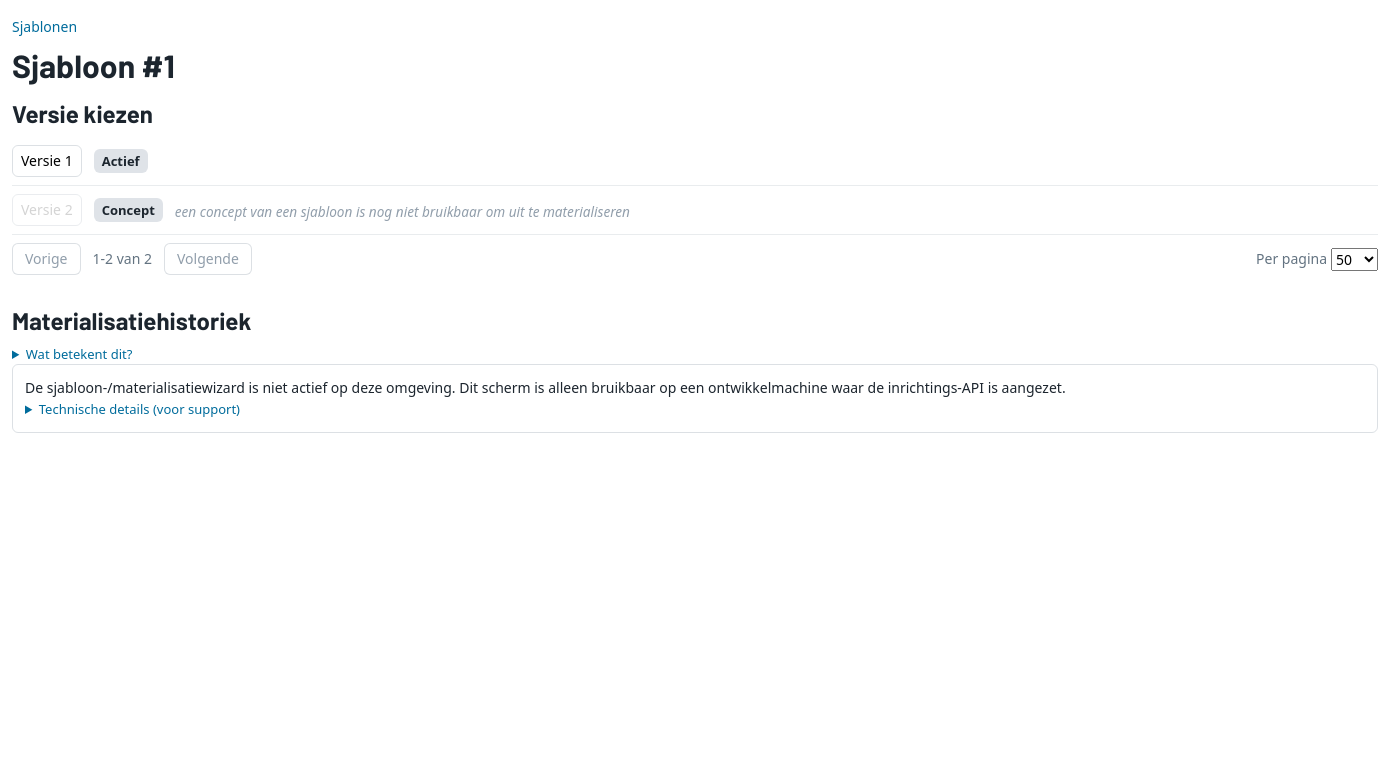
TemplateListPage / TemplateDetailPage (S1-F2) › S1-F2.5: flag-uit-melding op de bookmarkset i.p.v. de generieke foutmelding
Click the button "Versie 1" at coordinates (47, 161), box top-left (12, 145), bottom-right (82, 177)
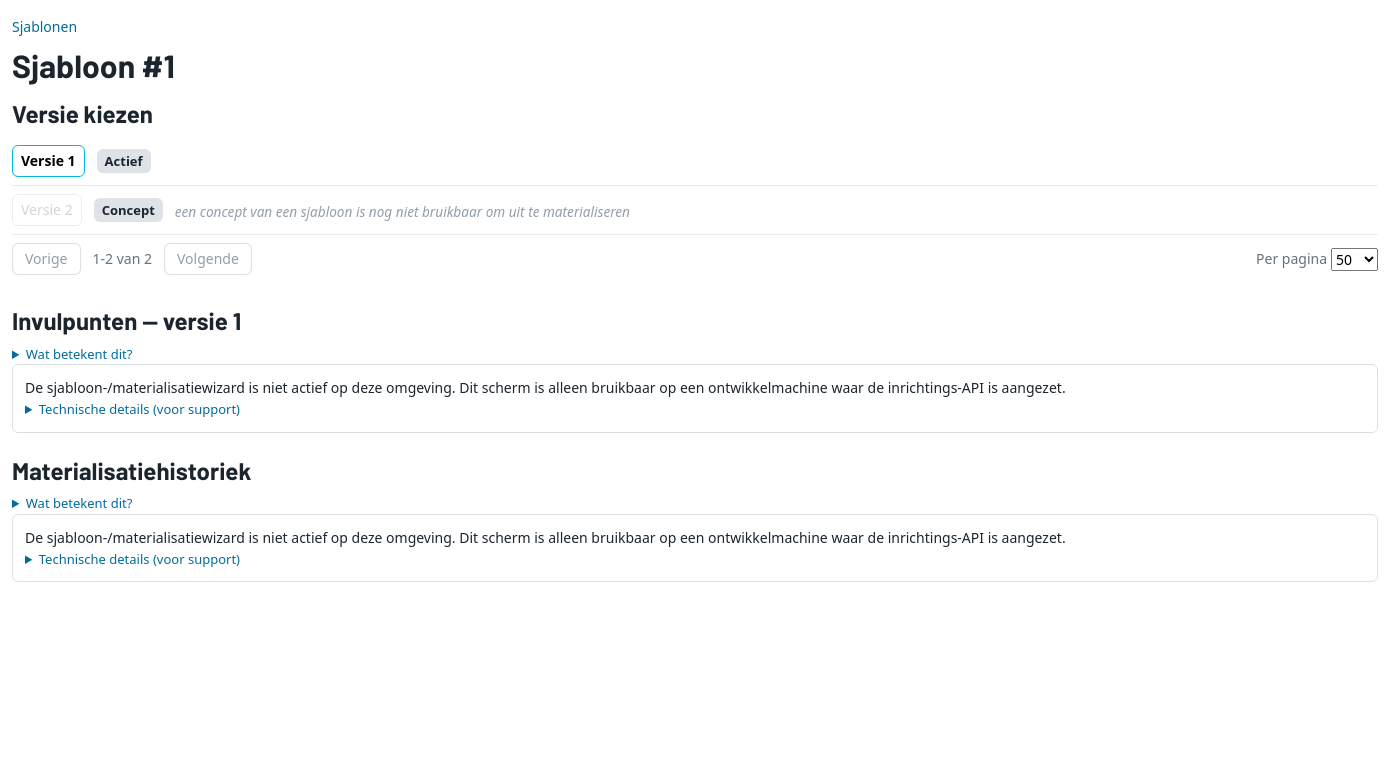
Now the text "De sjabloon-/materialisatiewizard is niet actief op deze omgeving" is shown 2 times, box top-left (12, 364), bottom-right (1378, 433); top-left (12, 514), bottom-right (1378, 582)
